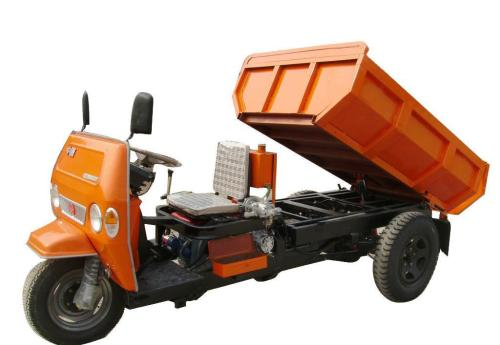tricycle: (30, 38, 478, 336)
